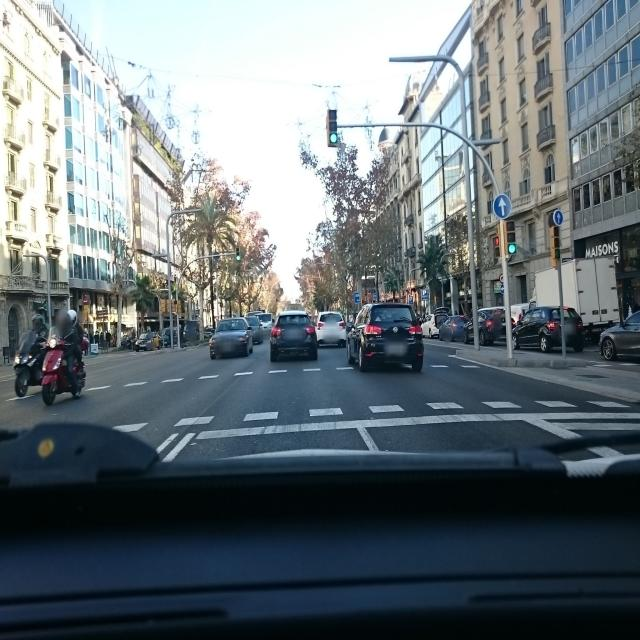bike: (12, 334, 62, 398), (40, 336, 86, 405)
car: (347, 301, 424, 374), (512, 304, 586, 354), (598, 306, 640, 369), (270, 309, 318, 362), (464, 306, 514, 346), (208, 317, 254, 359), (315, 311, 347, 347), (437, 314, 469, 342), (421, 311, 449, 339), (134, 331, 162, 352), (244, 316, 264, 344), (160, 326, 178, 346), (203, 327, 216, 340)
